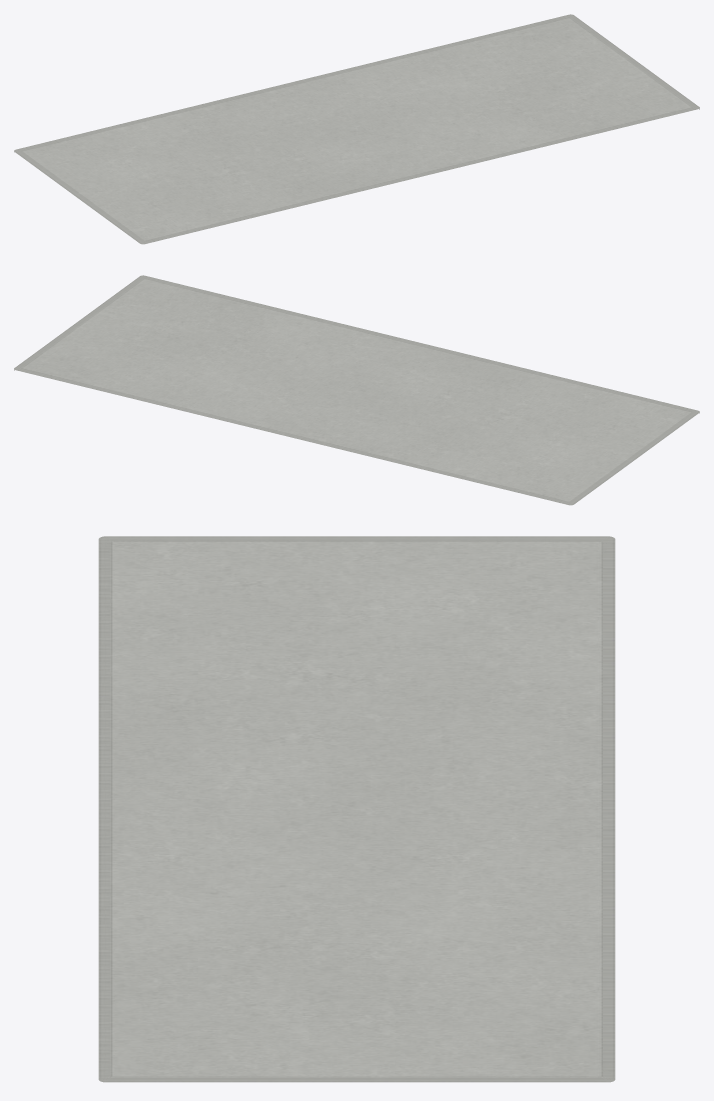
File: gray_hall_r90.glb
The picture shows the model from 3 angles, top to bottom: view 1: azimuth 30°, elevation 25°; view 2: azimuth 150°, elevation 25°; view 3: azimuth 270°, elevation 25°; orthographic projection. The views are drawn at different scales.
Parts seen in each view (by area): view 1: reliv_gray_hall_r90; view 2: reliv_gray_hall_r90; view 3: reliv_gray_hall_r90.
Part boxes in pixels (box(x1,y1,x2,y2)): reliv_gray_hall_r90: box(14, 14, 699, 244); reliv_gray_hall_r90: box(14, 275, 699, 505); reliv_gray_hall_r90: box(98, 536, 615, 1082).
Size of the model in its own units: 2.5 by 0.009 by 1.
2 materials, 1 textured.
